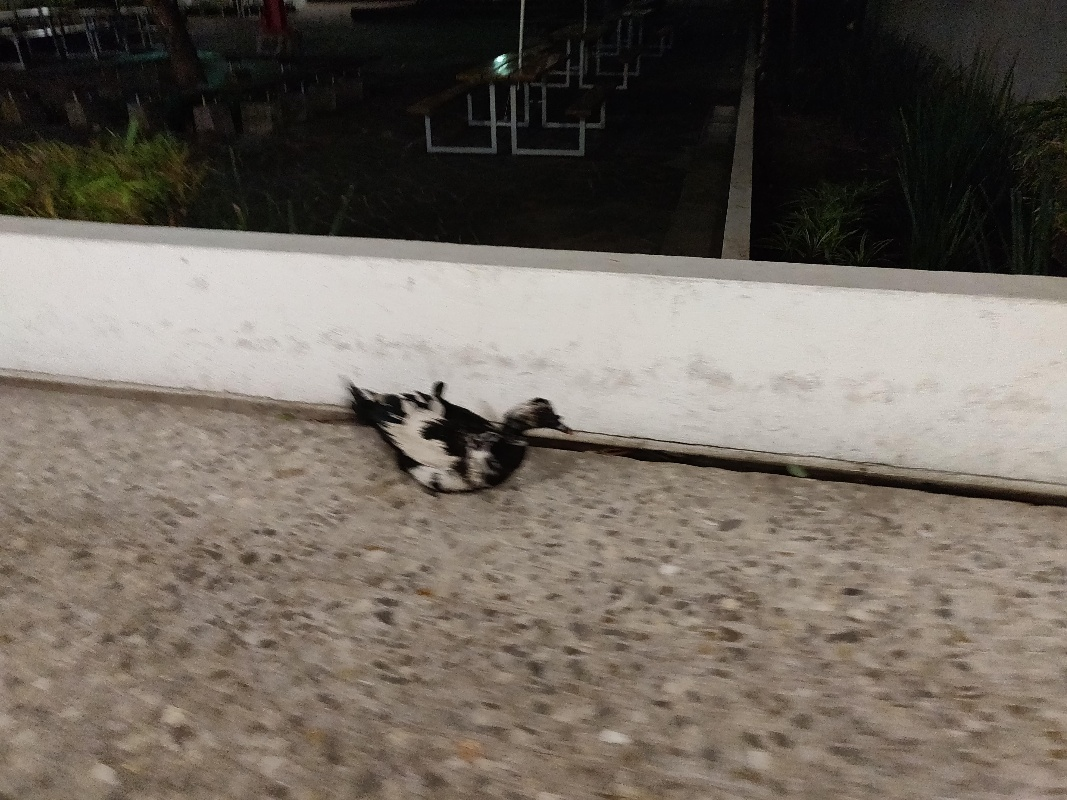pato: (351, 381, 558, 490)
